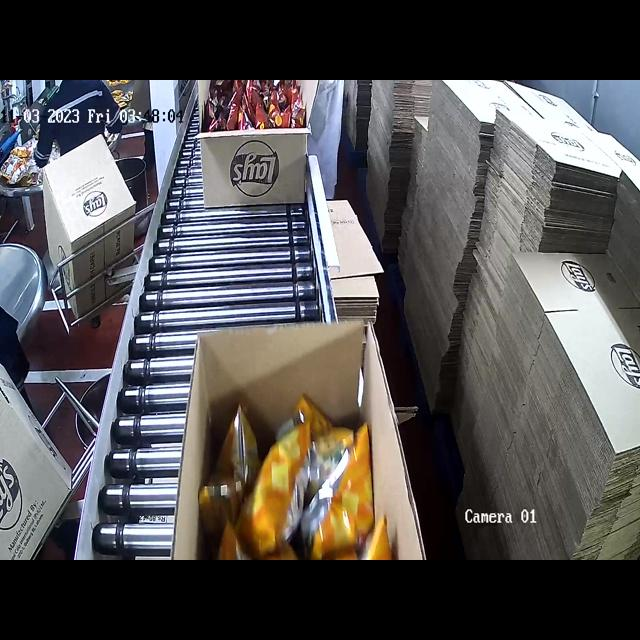cheese: (202, 384, 376, 560)
masala: (207, 82, 301, 130)
